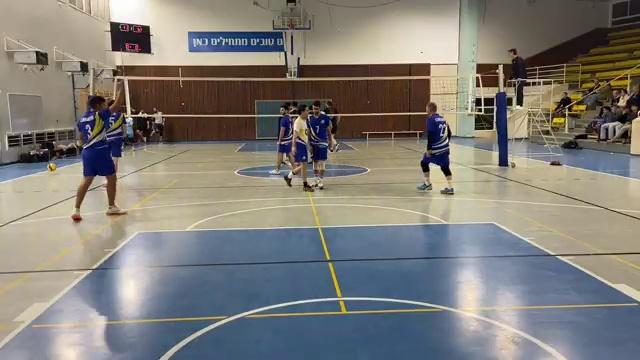ball: (46, 164, 58, 173)
